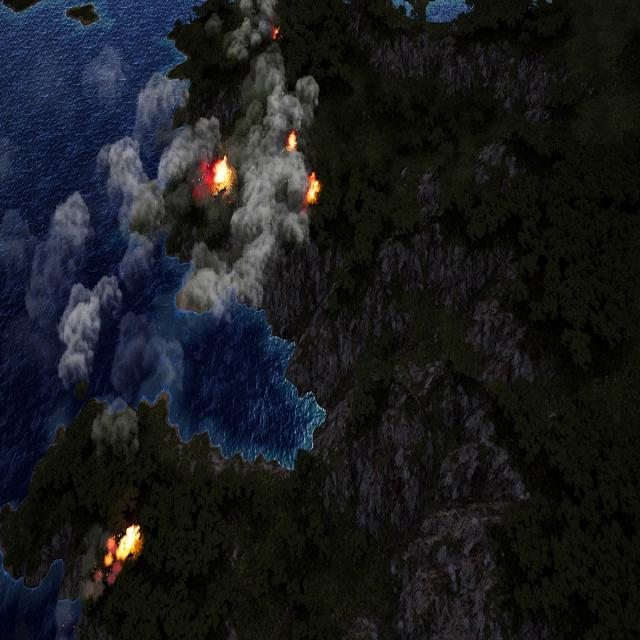fire: (104, 524, 142, 570), (306, 171, 322, 205), (286, 128, 300, 152), (270, 28, 282, 40)
smoke: (165, 0, 322, 317), (53, 512, 114, 637), (55, 283, 112, 392), (211, 153, 230, 185)
